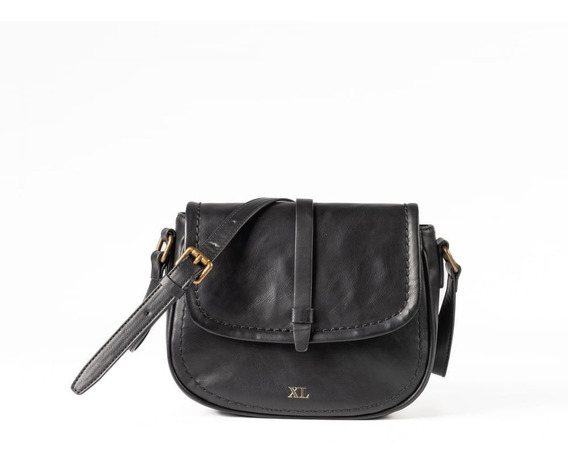cartera: (143, 199, 462, 420)
